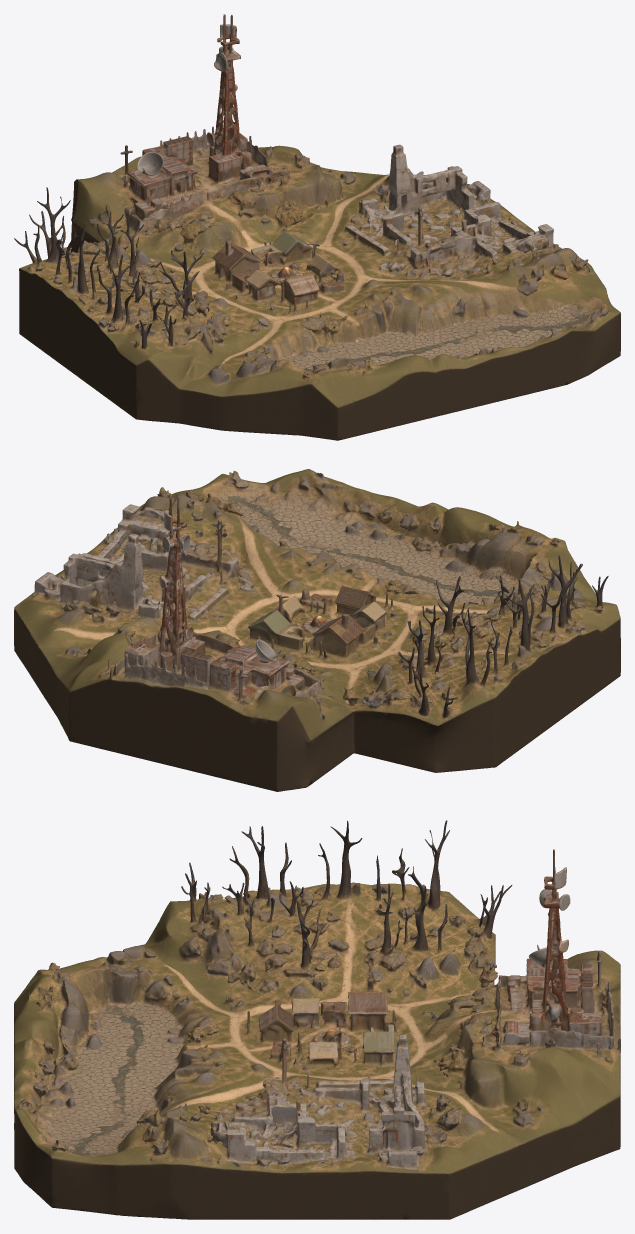
The model's file is Mapa eco survive.fbx.
3 views of the same model, one above another, from view 1: azimuth 30°, elevation 25°; view 2: azimuth 150°, elevation 25°; view 3: azimuth 270°, elevation 25° (orthographic). The views are drawn at different scales.
Parts seen in each view (by area): view 1: Mesh_0; view 2: Mesh_0; view 3: Mesh_0.
Boxes of the visible parts, x1,y1,x2,y2 form: Mesh_0: [14, 14, 620, 440]; Mesh_0: [14, 469, 620, 791]; Mesh_0: [14, 820, 620, 1219].
Bounding box in the file's own units: 187 × 89.42 × 190.
Materials: 1 (1 with a texture image).
